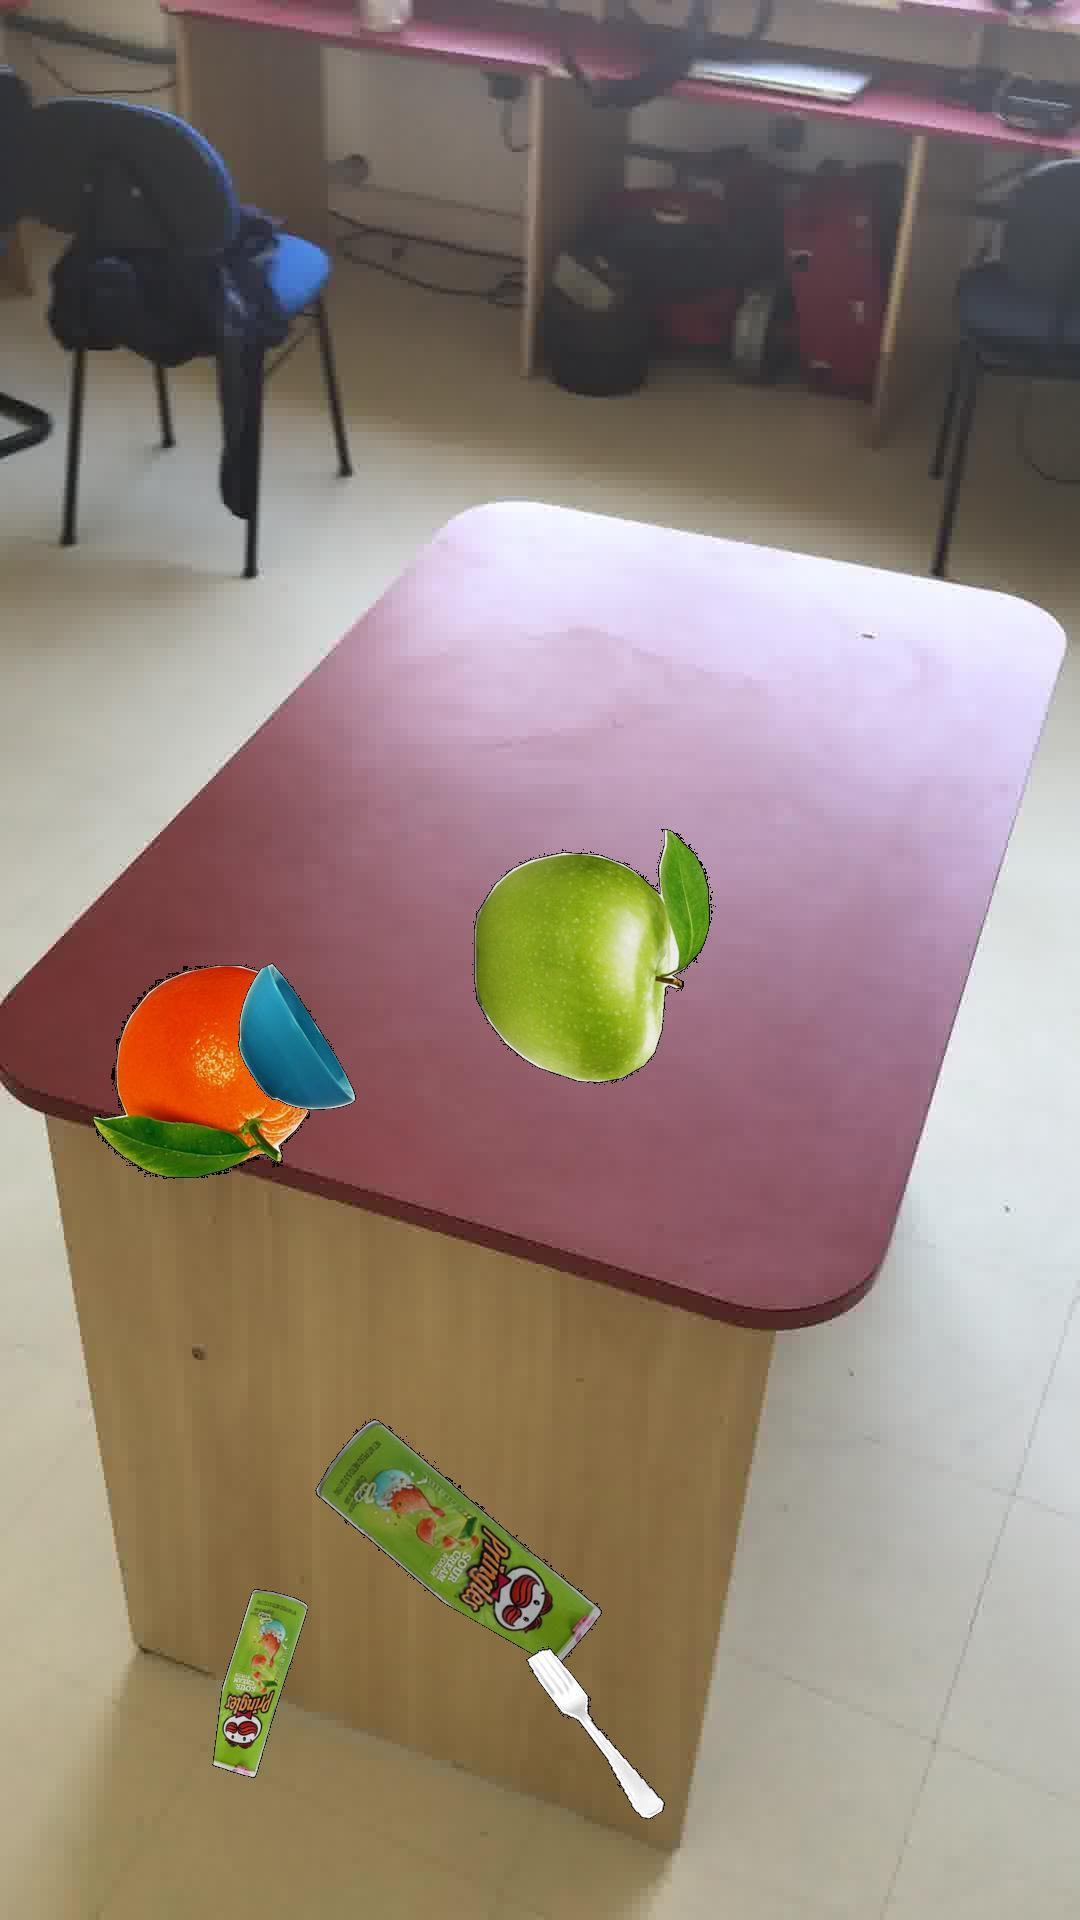bowl: (236, 961, 355, 1109)
fork: (525, 1647, 663, 1817)
green apple: (472, 828, 711, 1083)
orange: (91, 964, 309, 1178)
pringles: (314, 1418, 600, 1659), (211, 1588, 306, 1776)
